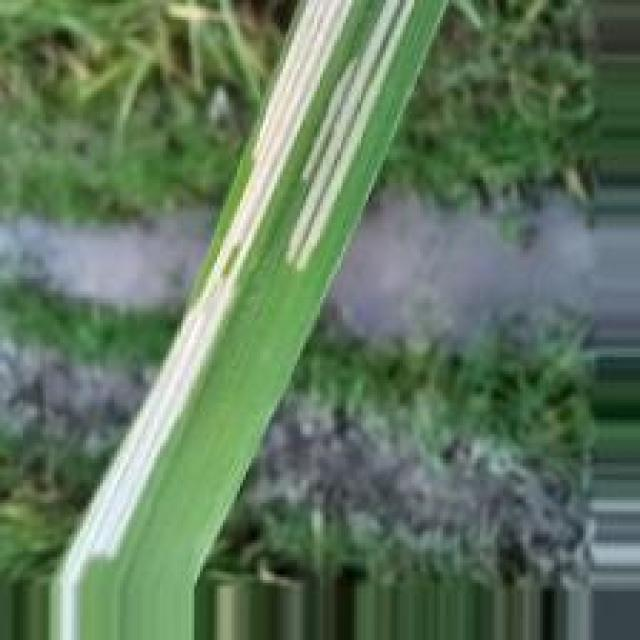Rice_Hispa: (51, 0, 352, 640), (286, 0, 419, 275)
